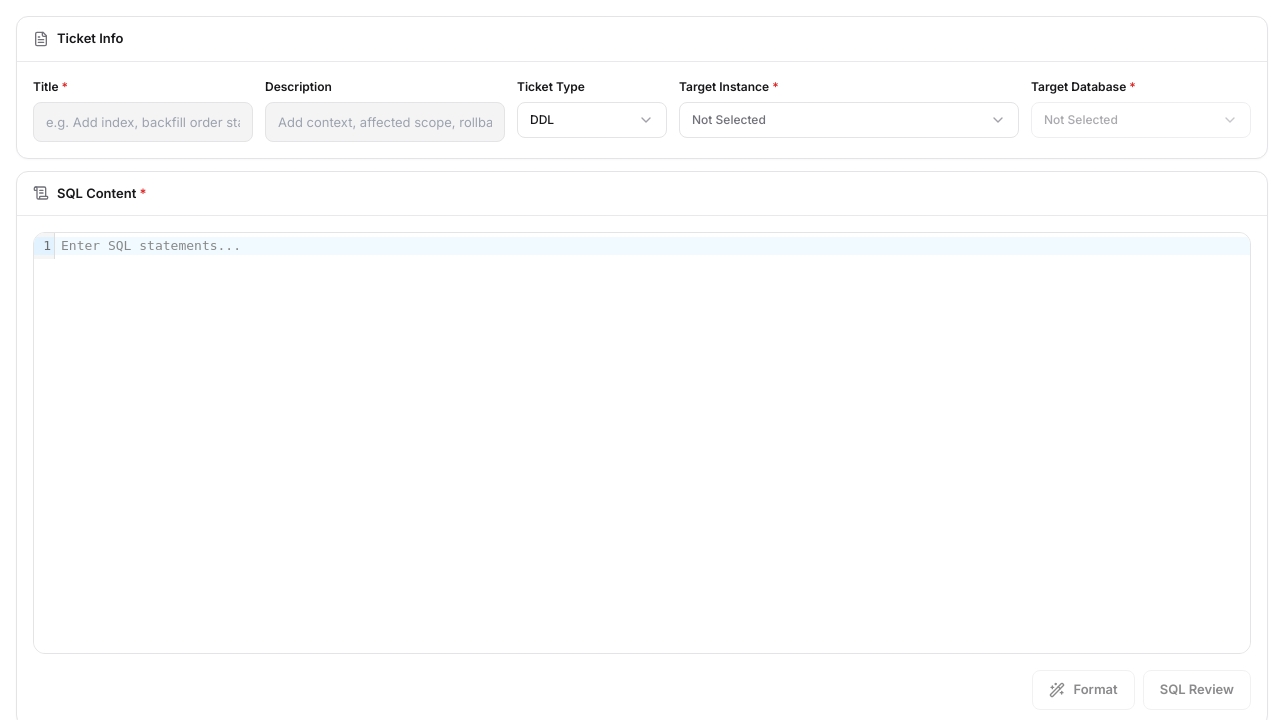
Test: NewTicketPage › filters long database dropdowns by typing into the combined search field
The width and height of the screenshot is (1280, 720).
Expected: the text "Ticket Info" is shown, [57,29,123,48]
Click the button with aria-label "Target Instance".
click(729, 119)  # box [679,102,1019,138]
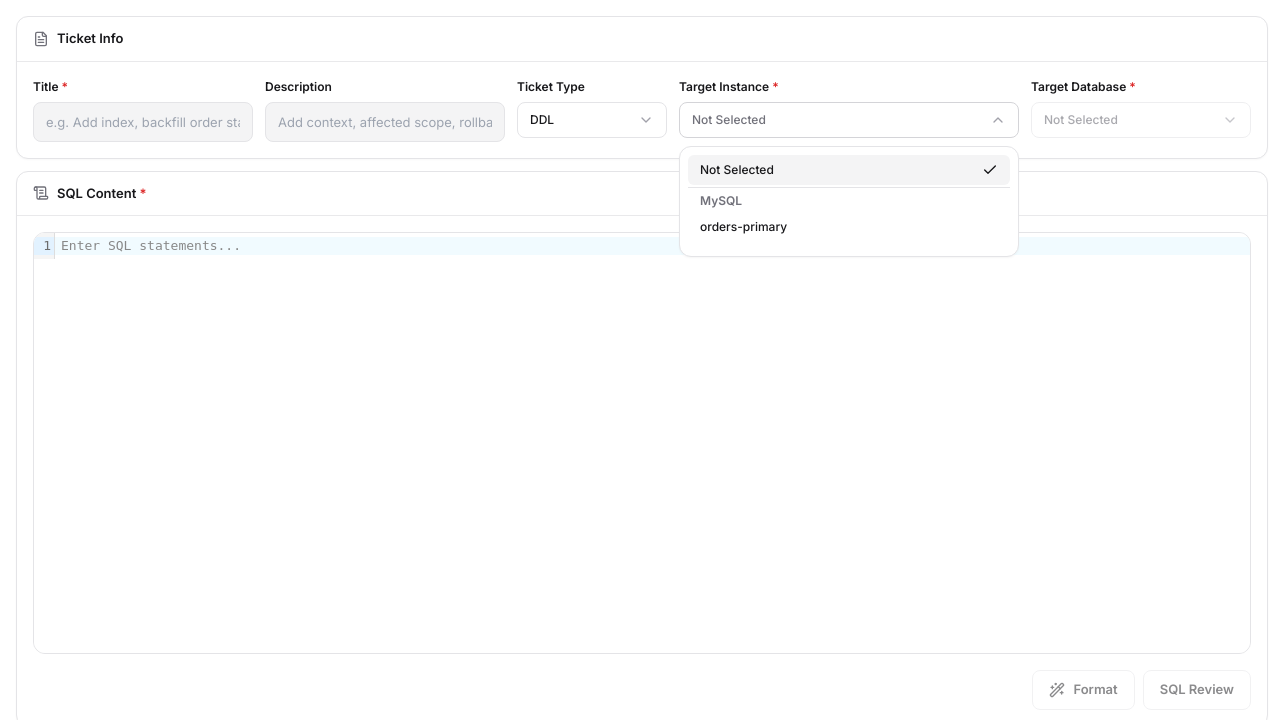
Click the option "orders-primary".
click(744, 226)  # box [688,212,1010,242]
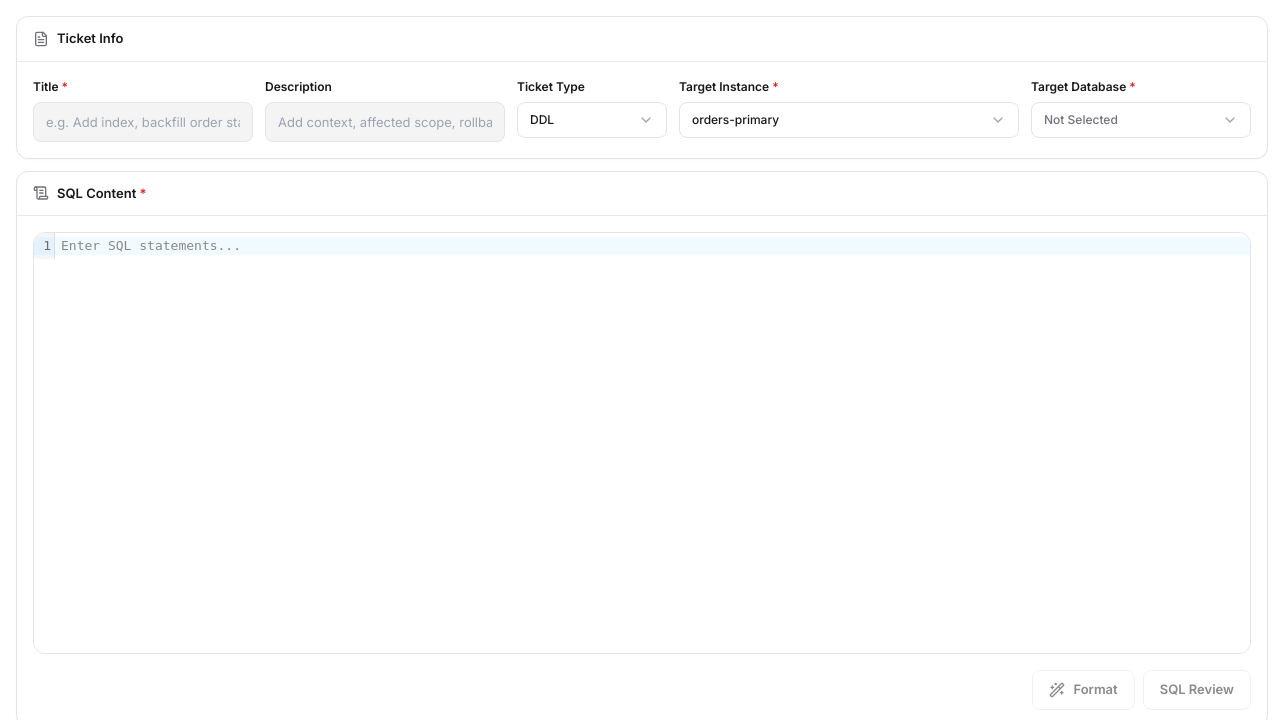
Click the button with aria-label "Target Database".
click(1141, 120)  # box [1031,102,1251,138]
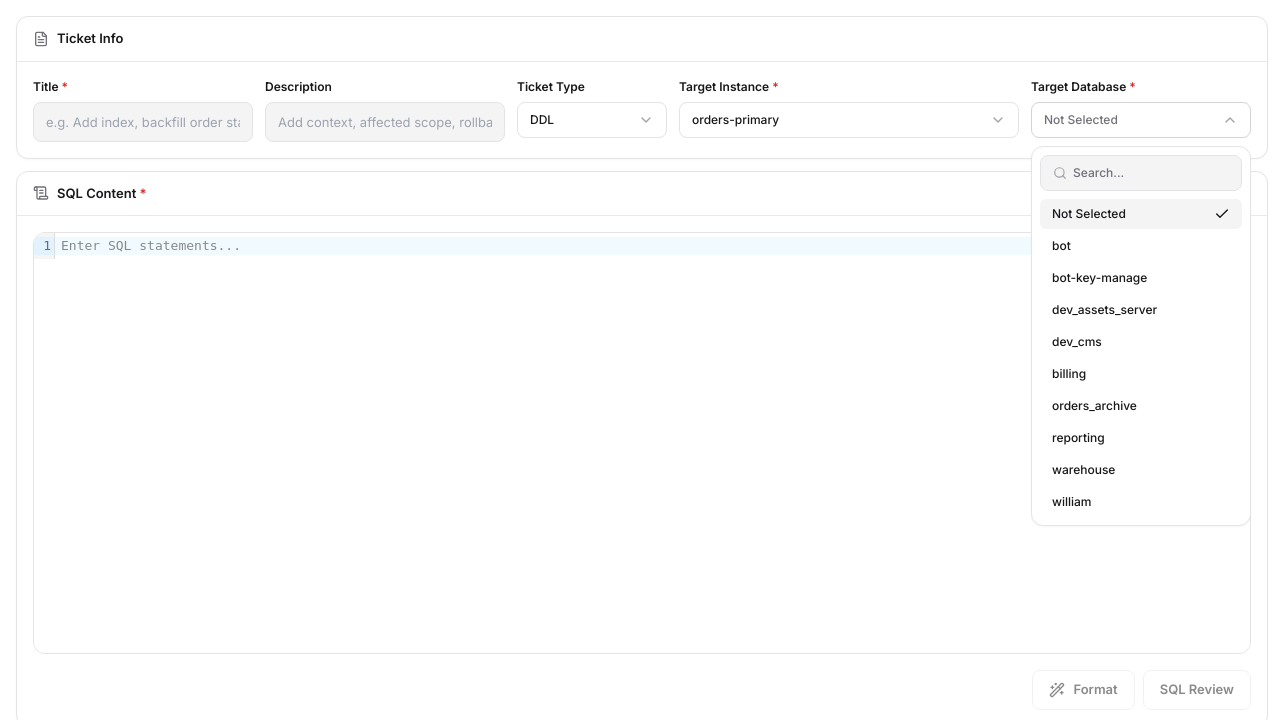
Type "will" into the field named "Target Database search".
click(1141, 172); type("will")  # box [1041,156,1241,190]
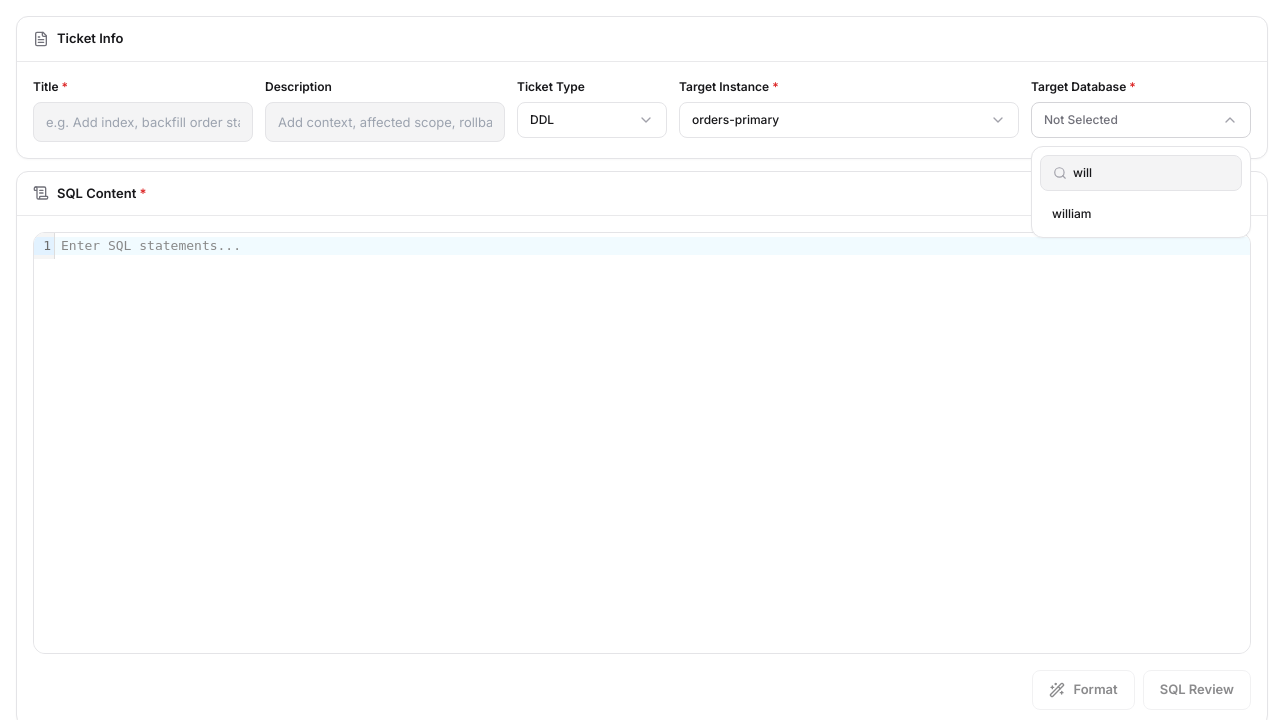
Result: the option "william" is shown
Result: the option "warehouse" is gone
Click the option "william".
click(1141, 214)  # box [1040,198,1242,228]
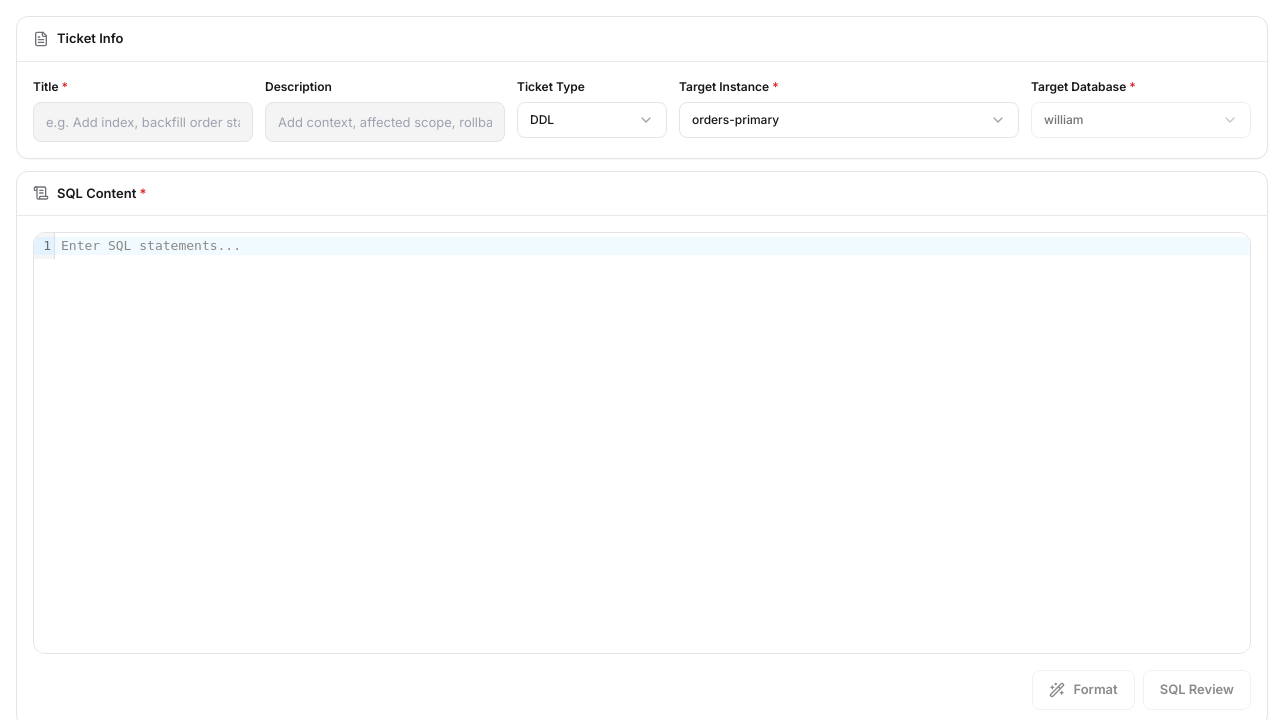
Result: the button with aria-label "Target Database" reads "william" at [1031,102,1251,138]
